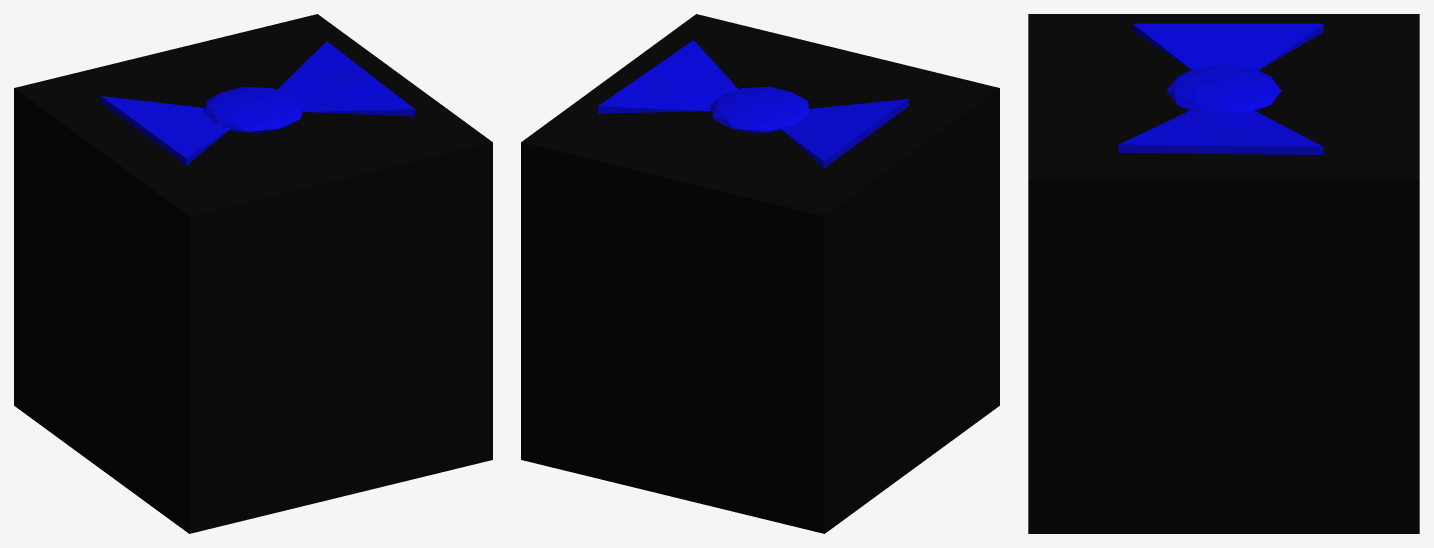
The model's file is riche.dae.
3 views of the same model, side by side, from view 1: azimuth 30°, elevation 25°; view 2: azimuth 150°, elevation 25°; view 3: azimuth 270°, elevation 25° (orthographic). The views are drawn at different scales.
Visible parts, largest first — view 1: Cube; view 2: Cube; view 3: Cube.
Part boxes in pixels (x1=…): Cube: x1=14, y1=14, x2=492, y2=533; Cube: x1=521, y1=14, x2=999, y2=533; Cube: x1=1028, y1=14, x2=1419, y2=533.
Bounding box in the file's own units: 0.3468 × 0.3468 × 0.3625.
1 material, 1 textured.
